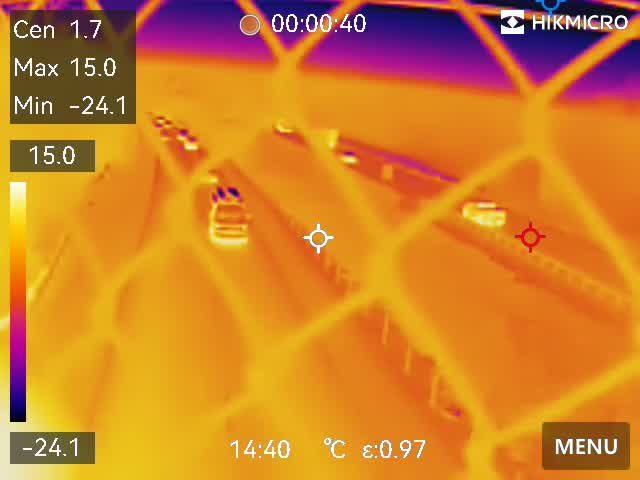lightTruck: (459, 198, 514, 226)
vehicle: (204, 186, 248, 250), (338, 150, 359, 168), (198, 167, 218, 183), (184, 134, 198, 153), (177, 126, 194, 141), (151, 112, 165, 124), (162, 118, 173, 128)
